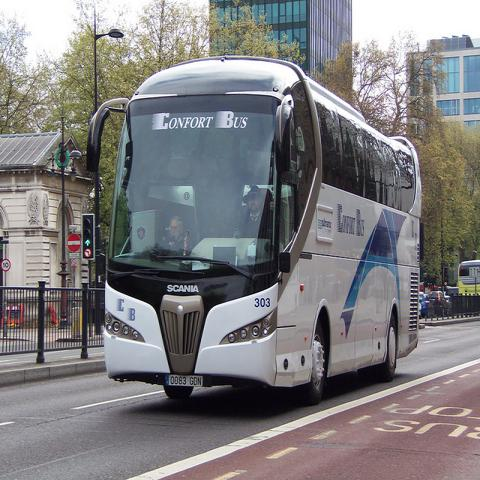bus: (84, 57, 419, 407), (456, 259, 479, 297)
car: (428, 289, 444, 308), (421, 301, 435, 318), (419, 292, 428, 317), (442, 296, 452, 308)
